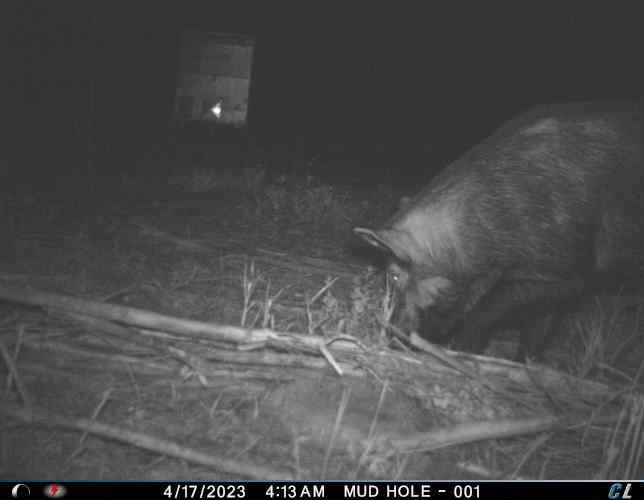Hog: (352, 95, 644, 365)
